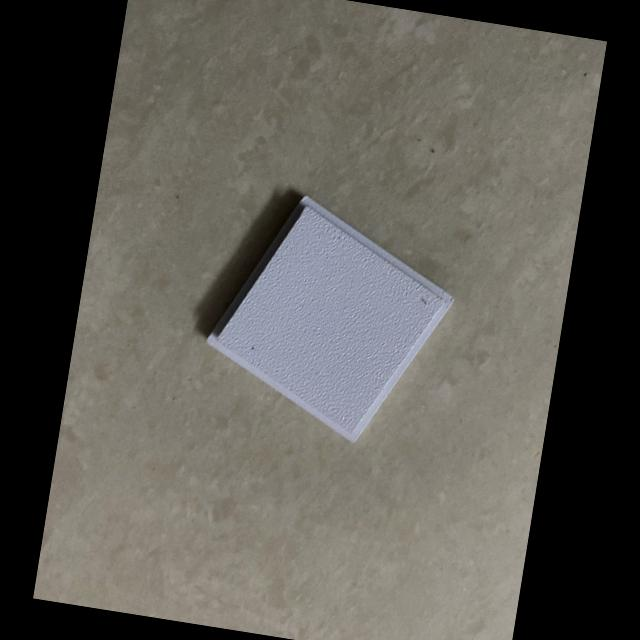RASPBERY PI CAM ENCLOSURE: (194, 184, 466, 455)
